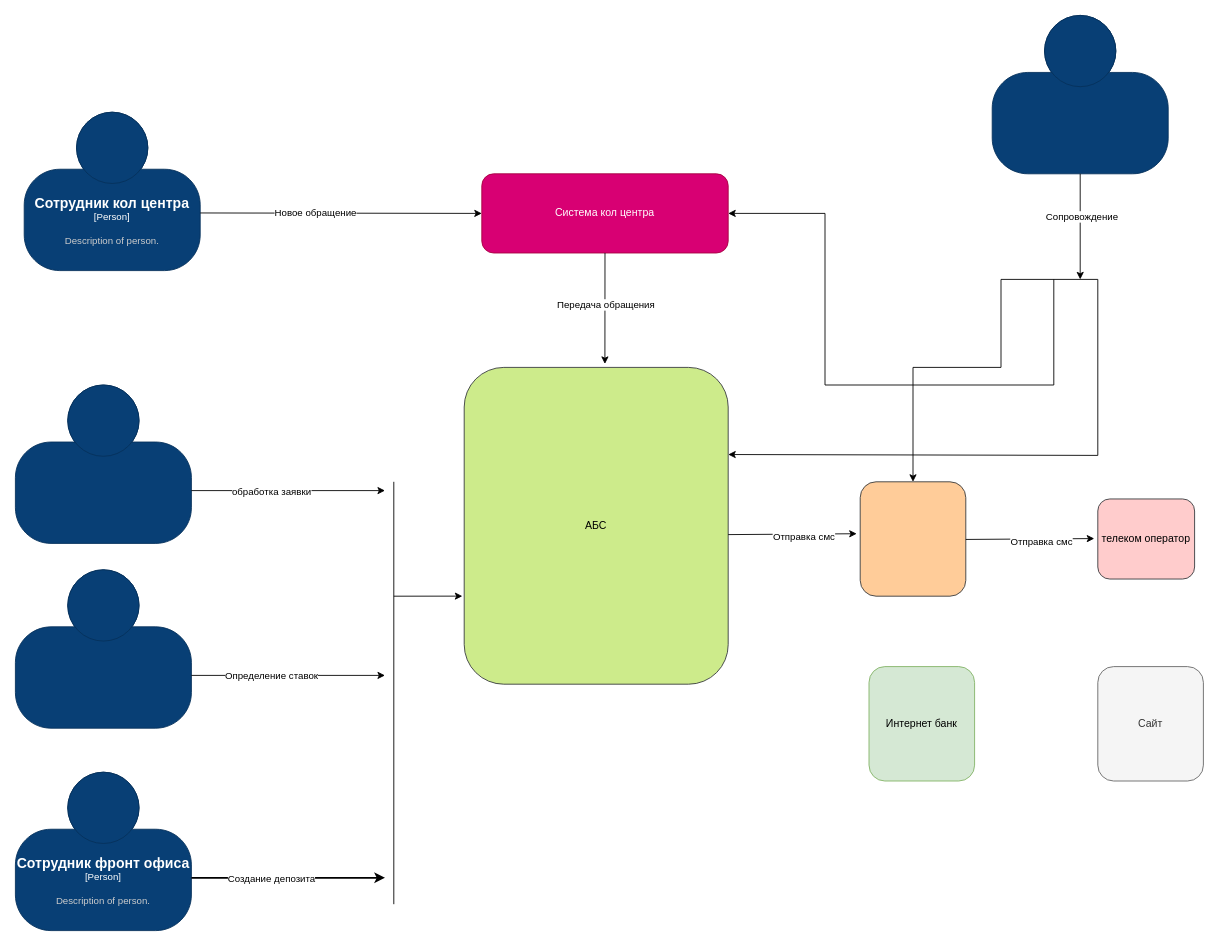
The diagram is 1219 pixels wide and 946 high, and some of its shapes have lost their labels. The centre of each missing label's shape, as x and y in pixels:
"СМС-шлюз" goes at point (912, 538).
"Сотрудник IT отдела [Person] Description of person." goes at point (1079, 94).
"Сотрудник депозитов(бэк офиса) [Person] Description of person." goes at point (103, 463).
"Сотрудник кредитования(бэк офис) [Person] Description of person." goes at point (103, 648).
